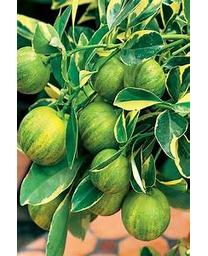lemon: (21, 109, 70, 166), (76, 102, 121, 153), (126, 189, 171, 240), (122, 60, 166, 100), (18, 47, 48, 95), (94, 152, 127, 189)
